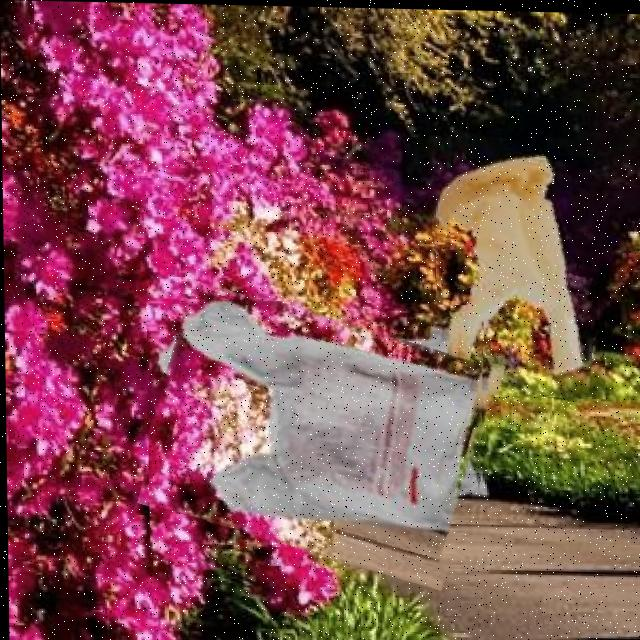litter: (145, 297, 487, 571), (429, 133, 604, 396)
